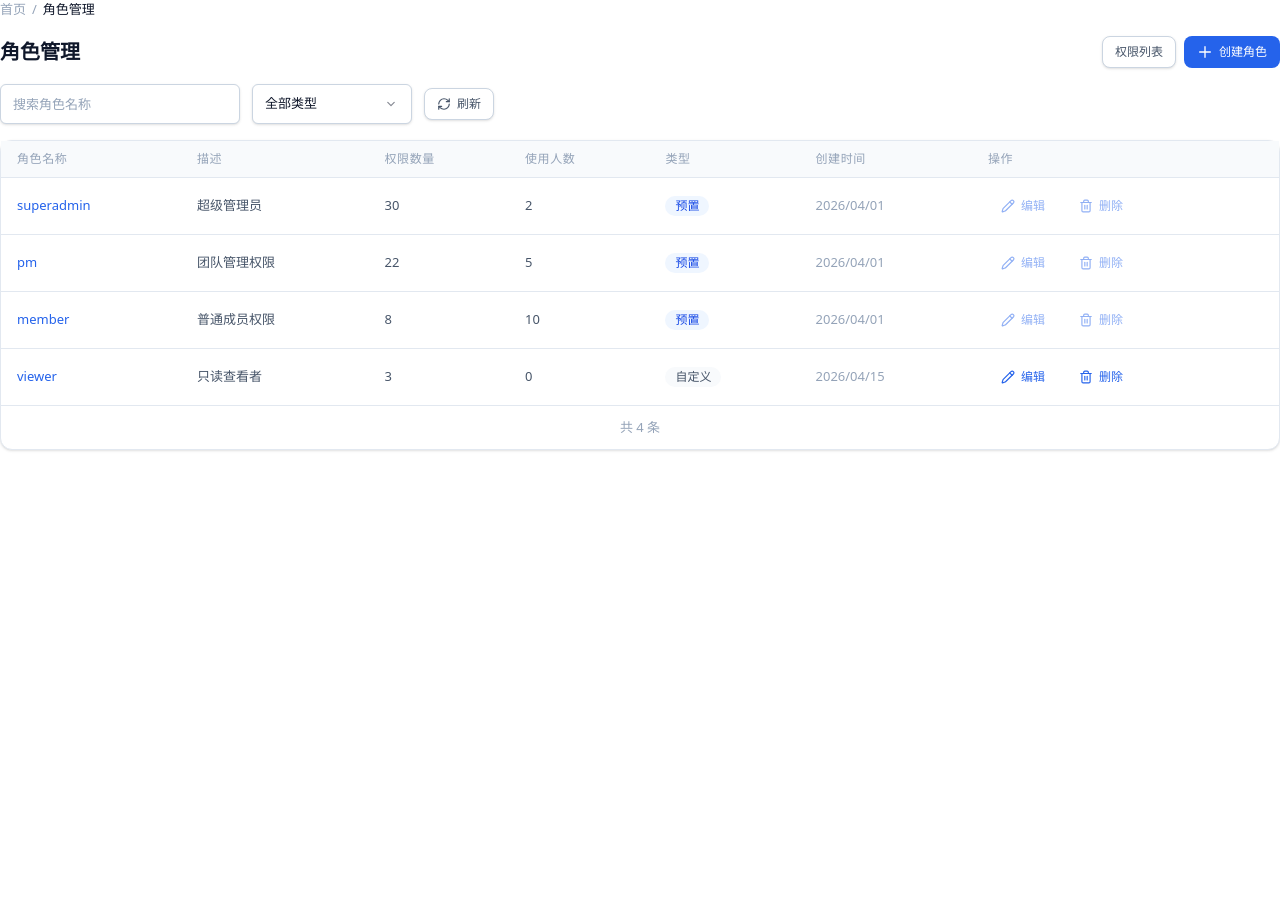
RoleManagementPage › opens delete confirm dialog for custom role
Expected: the button "viewer" is shown, [17,367,57,386]
Note: Click delete on viewer (enabled)
Click the button "删除" in the row of "只读查看者".
click(1101, 376)  # box [1066,360,1136,392]
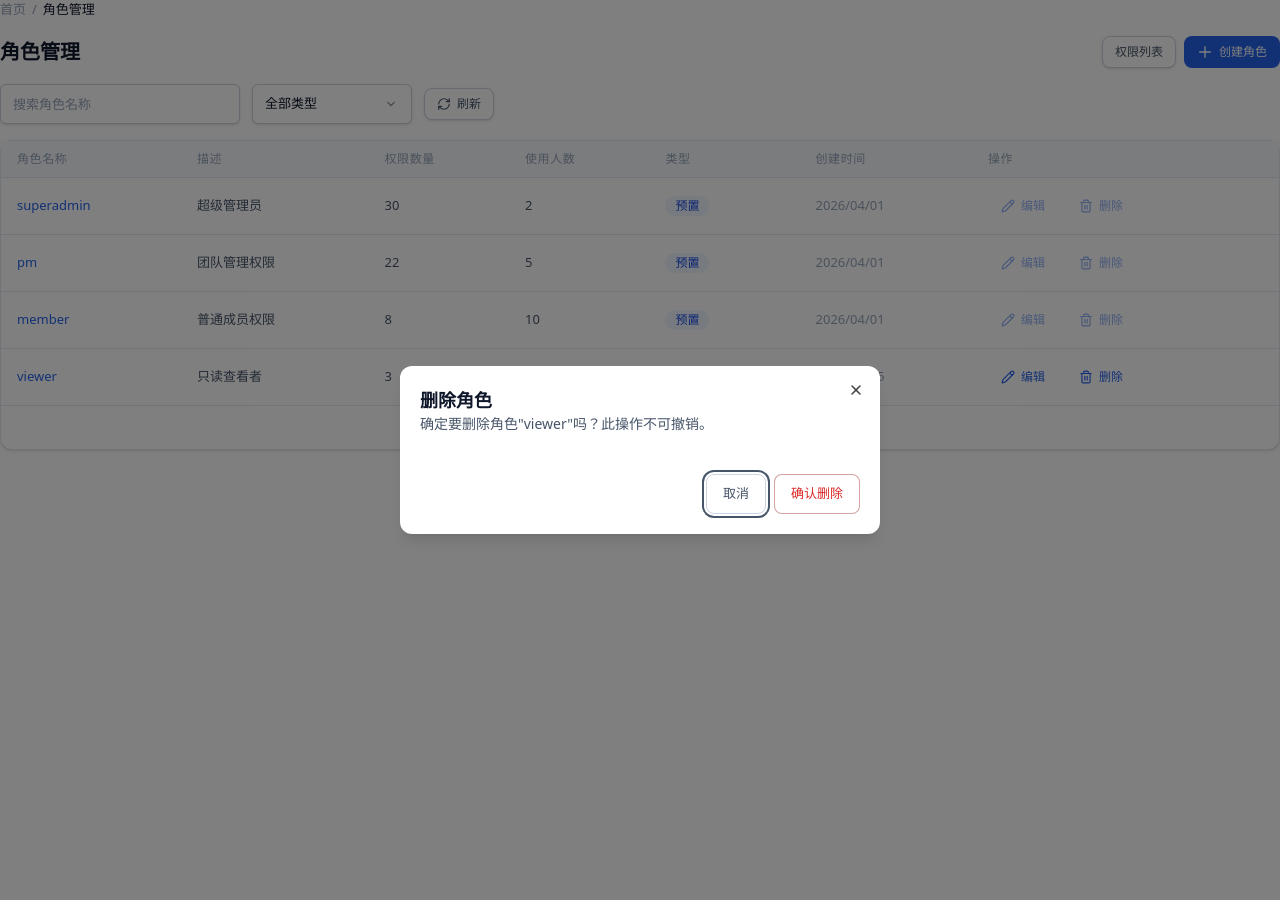
Expected: the heading "删除角色" is shown, [420,388,492,412]
Expected: the text "确定要删除角色\"viewer\"吗？此操作不可撤销。" is shown, [420,414,713,433]
